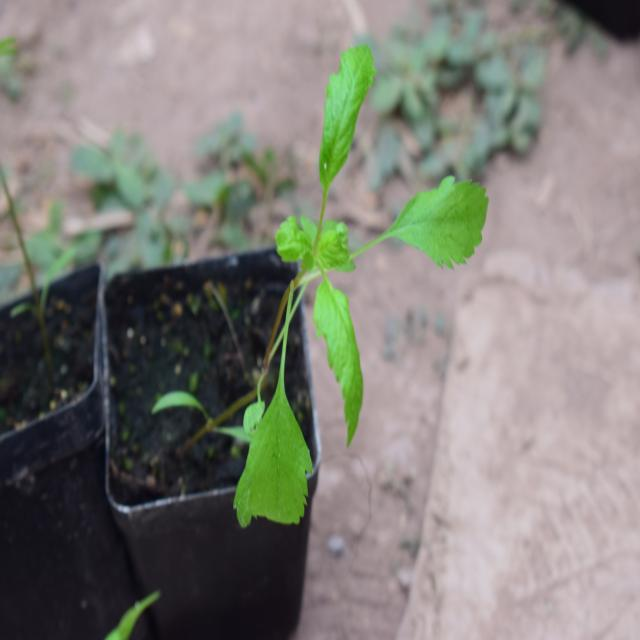Bidens pilosa: (228, 24, 494, 537)
